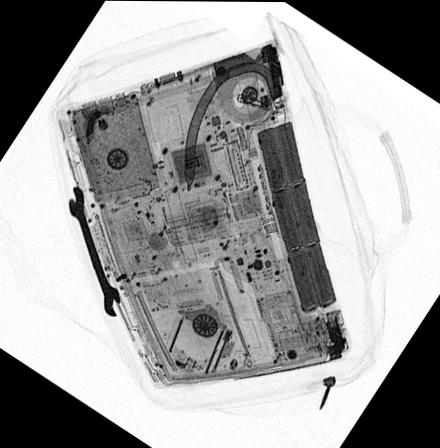Wrench: (68, 182, 120, 315)
